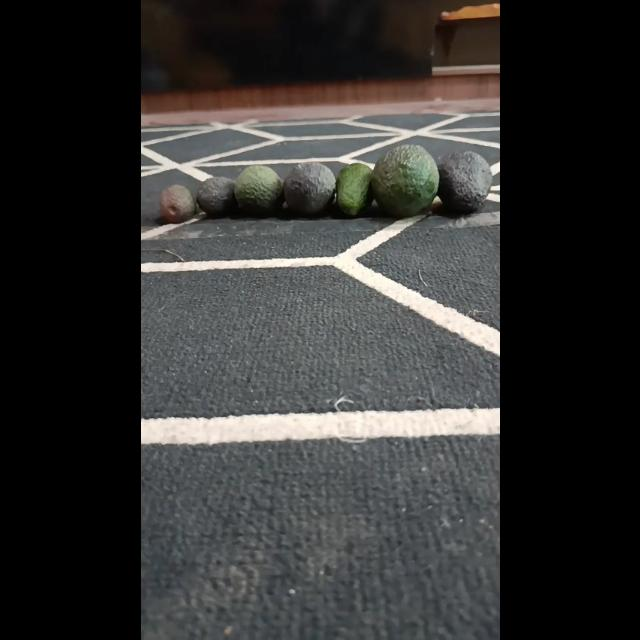Primera: (370, 143, 440, 217), (434, 149, 492, 213)
Segunda: (282, 162, 336, 216), (234, 164, 282, 216), (334, 163, 372, 217)
Tercera: (195, 176, 237, 218), (157, 183, 197, 224)
